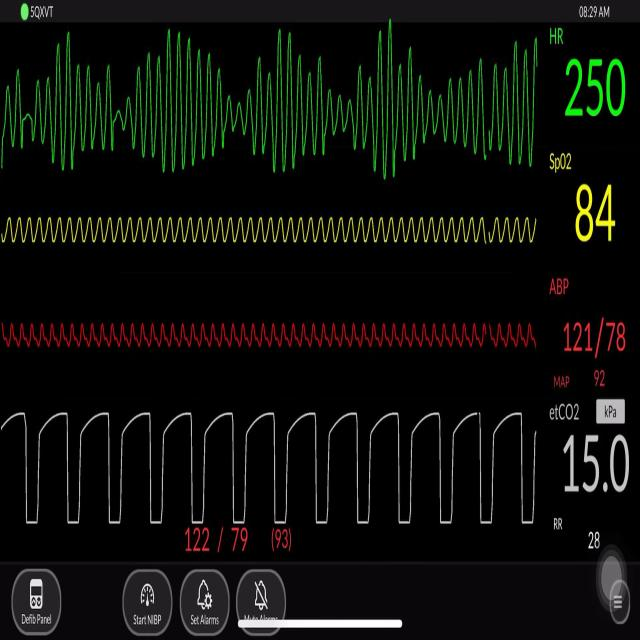danger: (6, 40, 546, 191)
